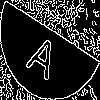A: (25, 25, 65, 82)
